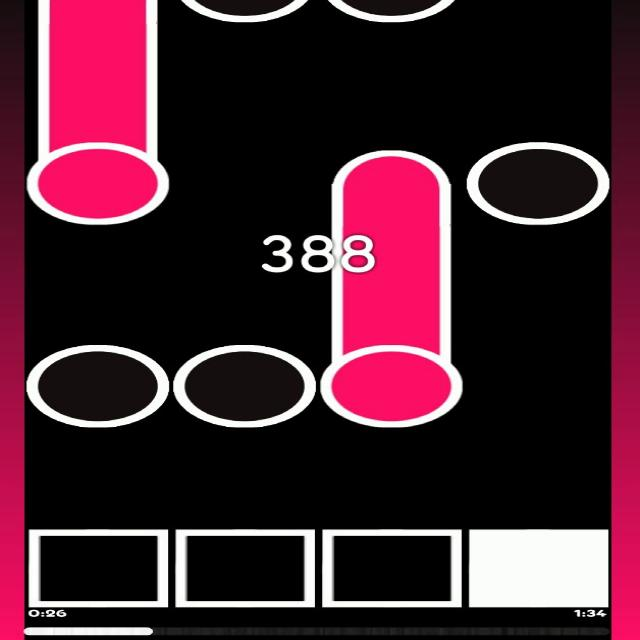end_hold: (331, 146, 452, 190)
note: (466, 142, 611, 225), (173, 344, 319, 426), (26, 344, 169, 426), (181, 0, 310, 24), (328, 0, 454, 21)
start_hold: (320, 325, 464, 428), (26, 124, 172, 225)
